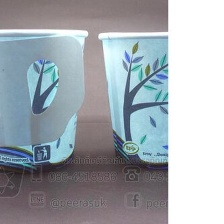paper_cup: (0, 23, 91, 176), (92, 24, 168, 170)
